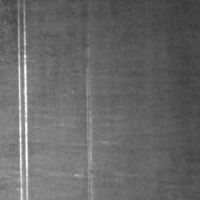scratches: (15, 1, 31, 199), (84, 40, 96, 199)
